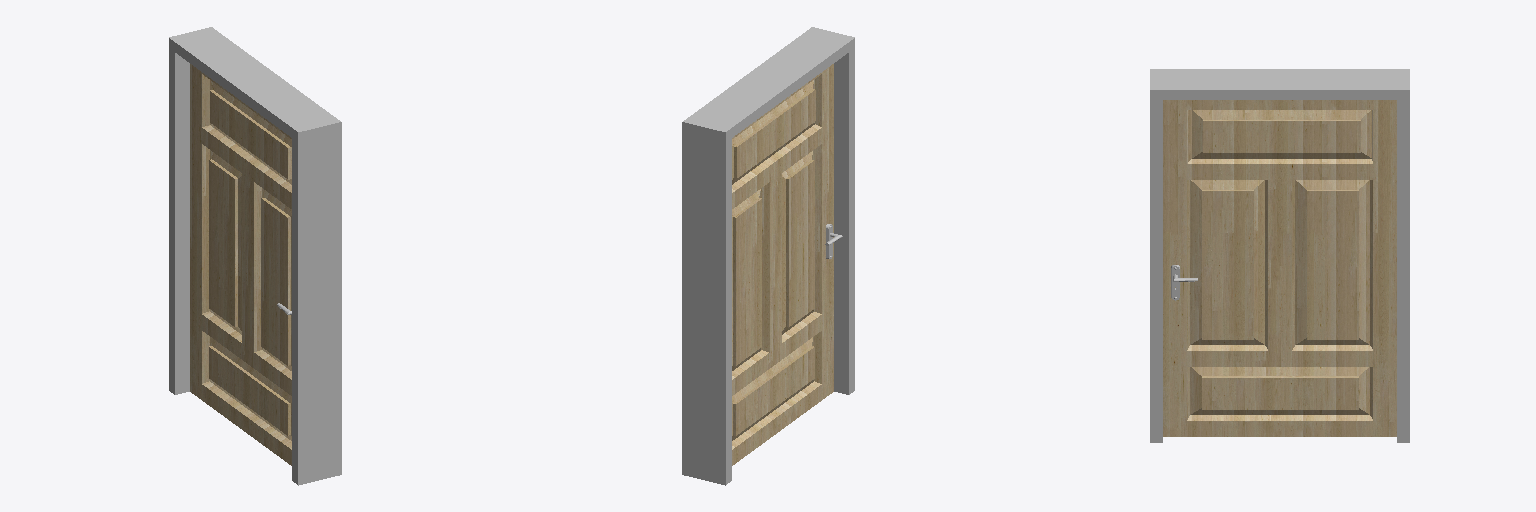
The picture shows the model from 3 angles: view 1: azimuth 30°, elevation 25°; view 2: azimuth 150°, elevation 25°; view 3: azimuth 270°, elevation 25°; orthographic projection.
Parts seen in each view (by area): view 1: 3d-model; view 2: 3d-model; view 3: 3d-model.
Part boxes in pixels (bbox=[...]): 3d-model: bbox=[169, 27, 341, 485]; 3d-model: bbox=[682, 27, 854, 485]; 3d-model: bbox=[1150, 69, 1409, 442].
Size of the model in its own units: 0.4 by 3 by 2.
4 materials, 1 textured.